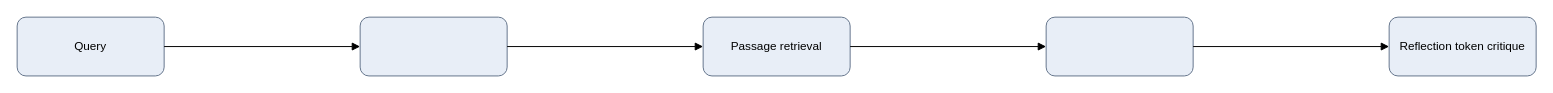
The diagram is 1553 pixels wide and 93 high, and some of its shapes have lost their labels. Each missing label, with the box of its shape:
Generation: (1045, 16, 1193, 76)
Retrieval decision: (359, 16, 507, 76)
